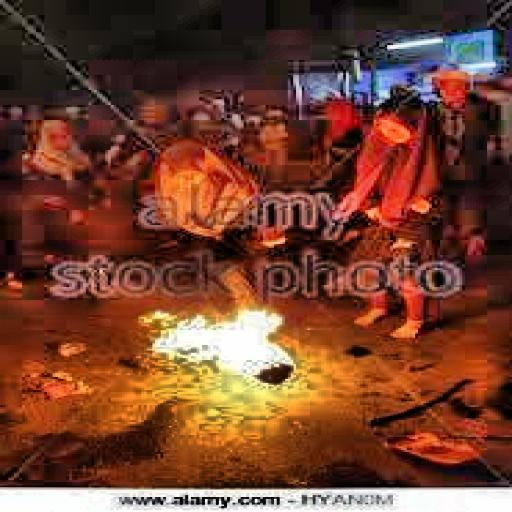fire: (130, 281, 316, 383)
